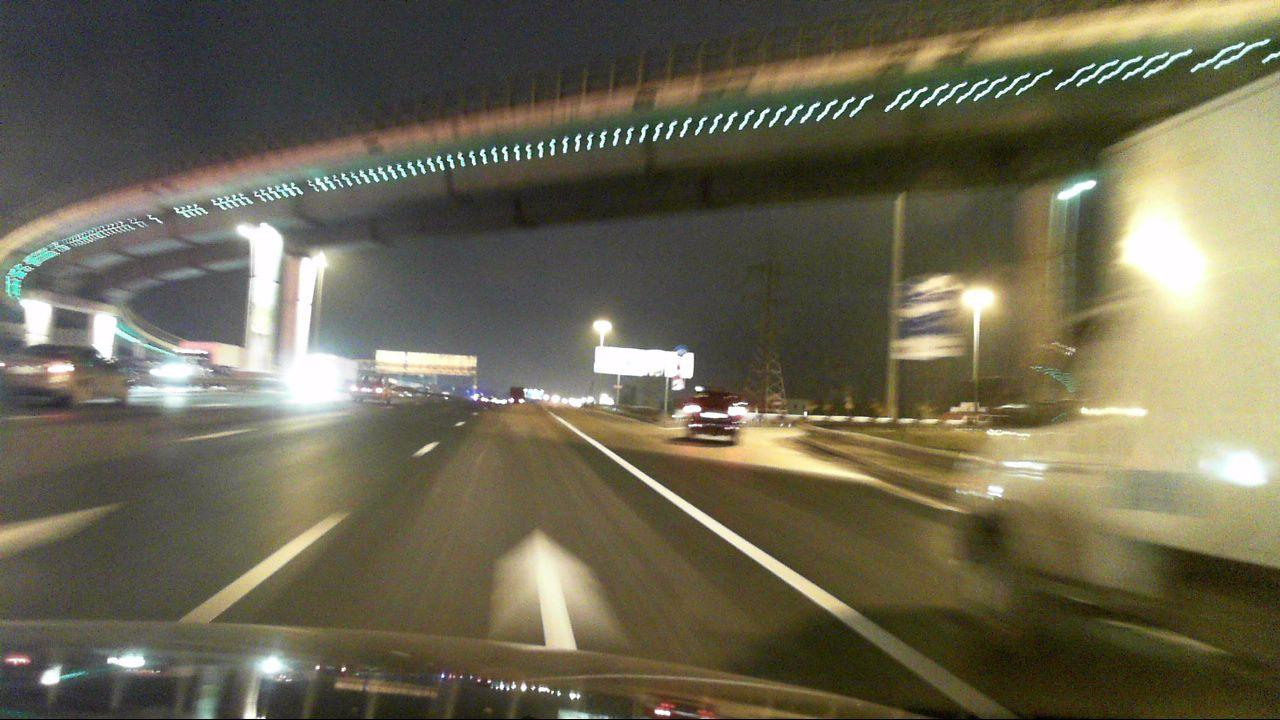5_3: (898, 277, 945, 337)
